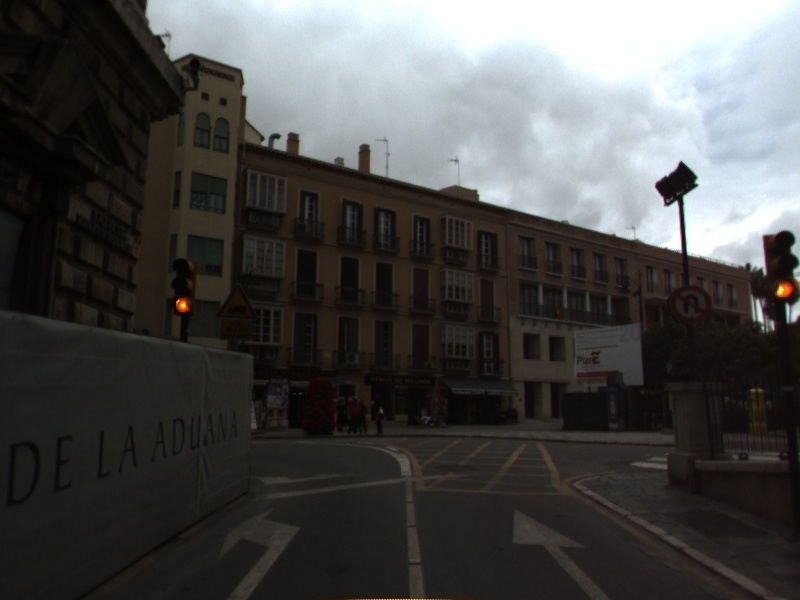LEFT: (216, 505, 304, 600)
STRAIGHT: (511, 506, 610, 600)
